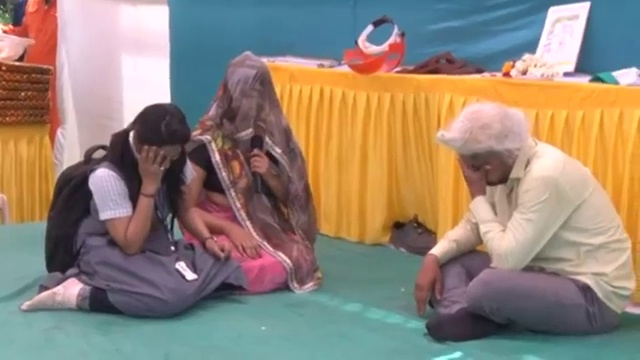helmet_off: (445, 100, 532, 200), (120, 99, 188, 174), (221, 57, 273, 125)
person: (400, 92, 640, 333), (16, 100, 236, 305), (188, 54, 319, 285), (1, 0, 55, 63)
